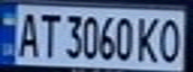0: (78, 11, 100, 61), (115, 14, 136, 62)
3: (60, 10, 84, 60)
6: (97, 12, 118, 62)
A: (12, 8, 42, 59)
K: (133, 14, 163, 63)
O: (154, 15, 187, 64)
T: (36, 9, 60, 60)
